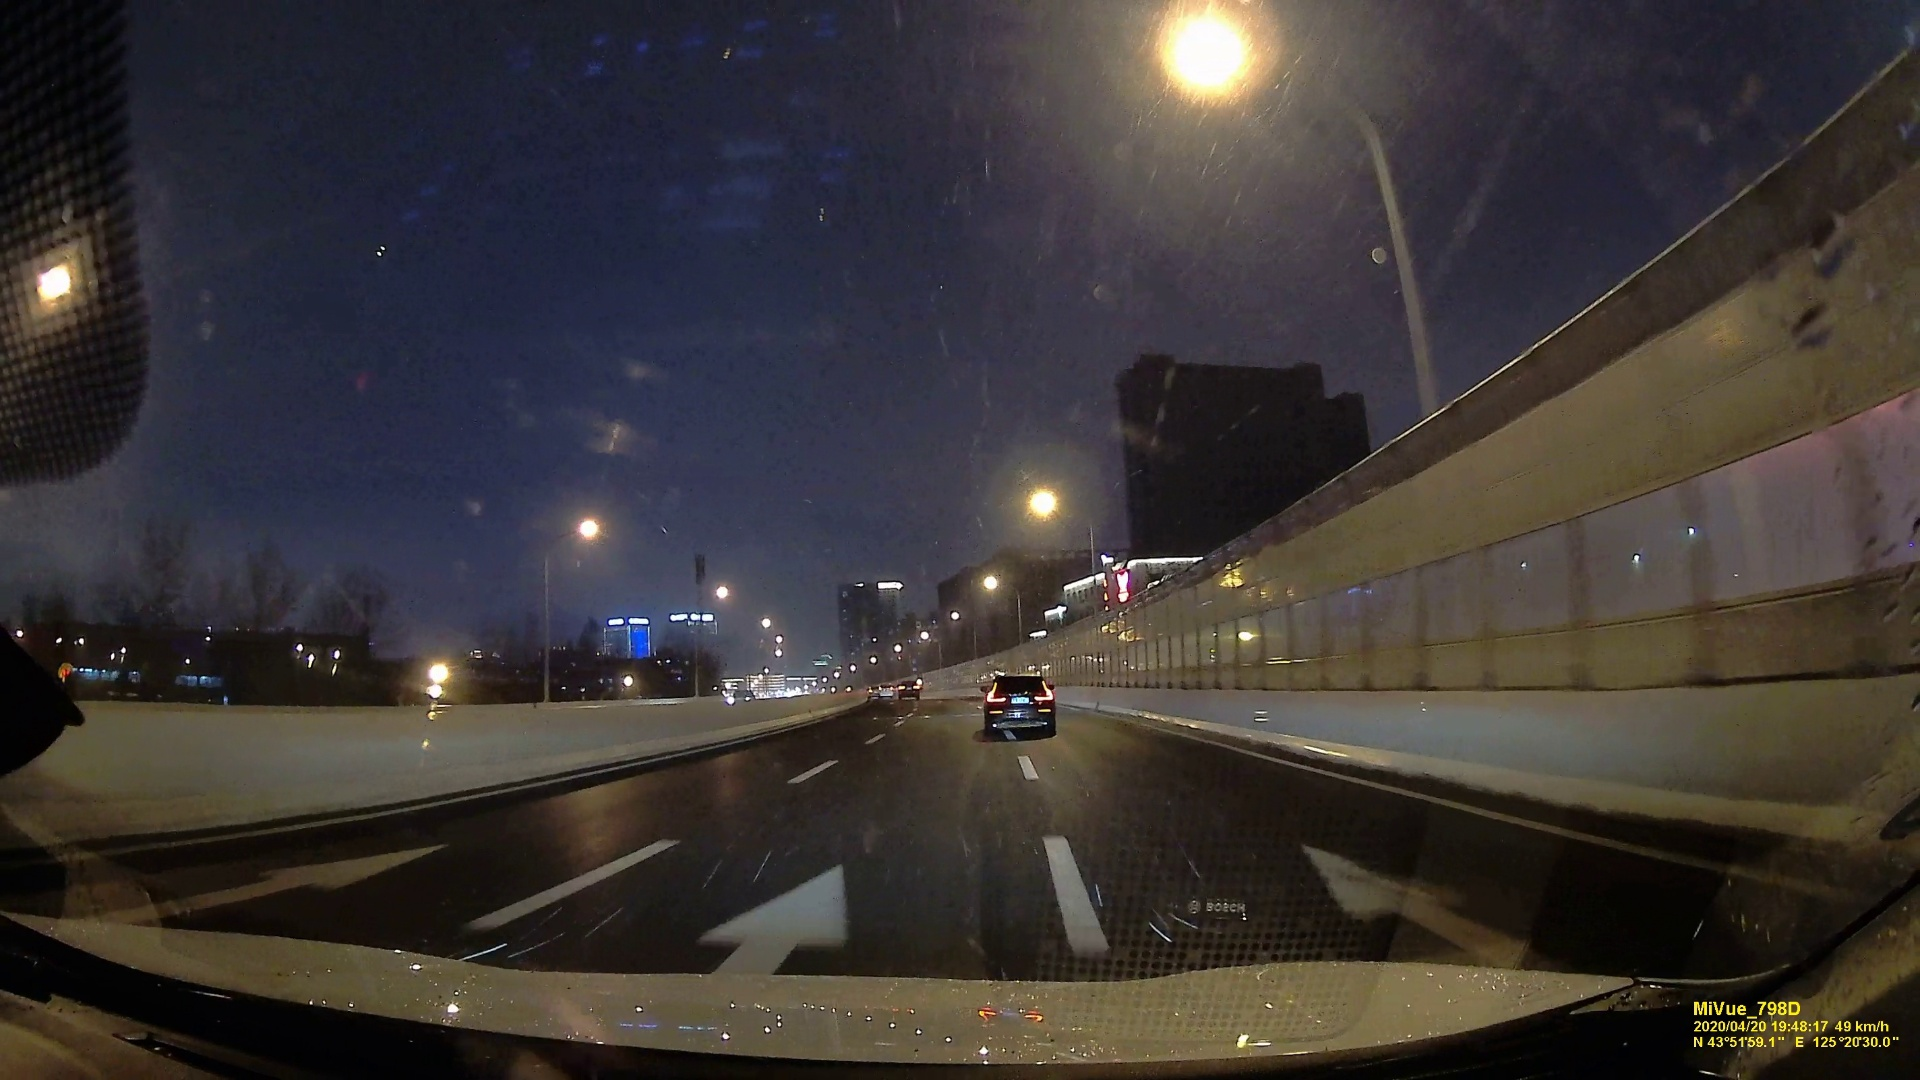vehicle: (982, 674, 1056, 737), (897, 680, 920, 698)
